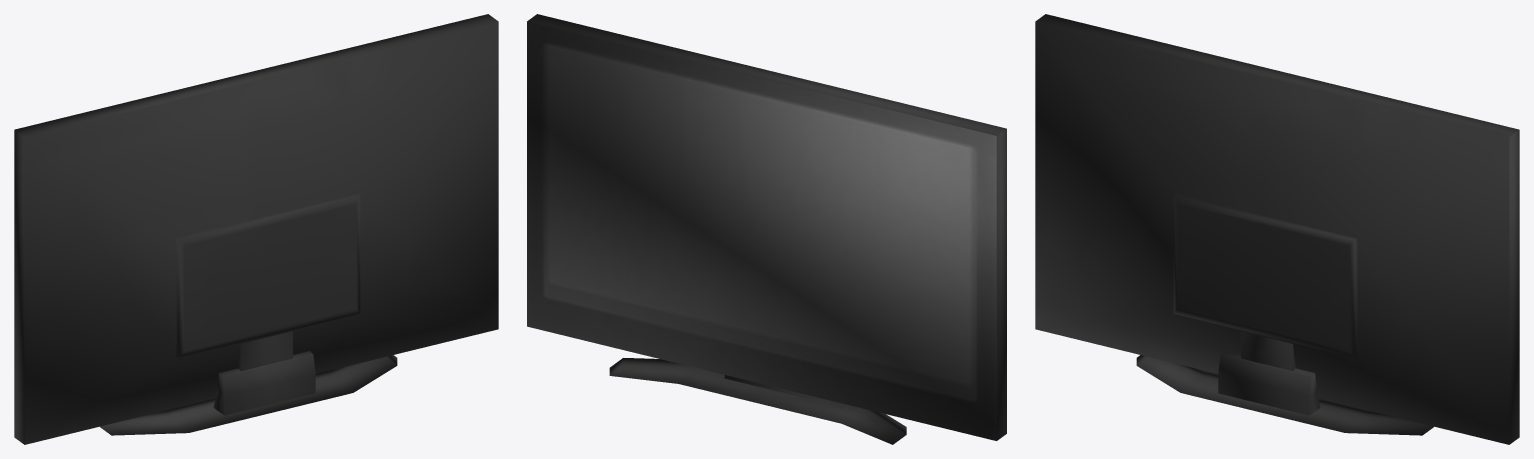
The model's file is Flat_tv.fbx.
3 renders of one model, left to right at view 1: azimuth 30°, elevation 25°; view 2: azimuth 150°, elevation 25°; view 3: azimuth 330°, elevation 25°, orthographic.
Visible parts, largest first — view 1: Flat_tv; view 2: Flat_tv; view 3: Flat_tv.
Part boxes in pixels (x1,y1,x2,y2): Flat_tv: [14, 14, 498, 444]; Flat_tv: [527, 14, 1006, 444]; Flat_tv: [1035, 14, 1519, 444].
Bounding box in the file's own units: 0.3189 × 0.2101 × 0.0357.
